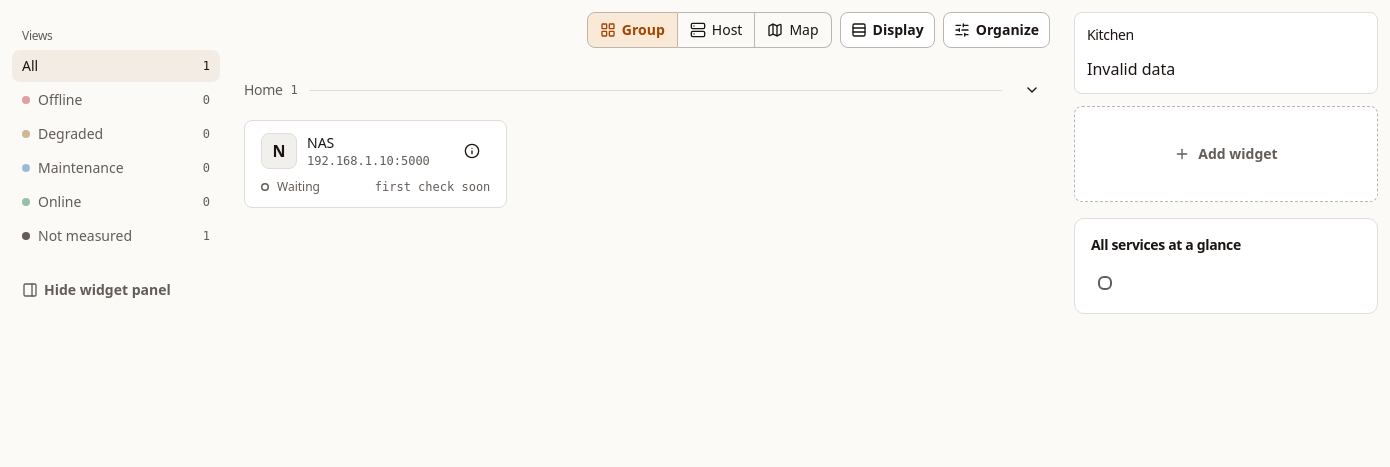
Test case: puts the widgets in the column and gives their place to a chosen service, with a way back
The image size is (1390, 467).
Click the button named "NAS: ".
click(1105, 283)  # box x1=1091 y1=269 x2=1119 y2=297
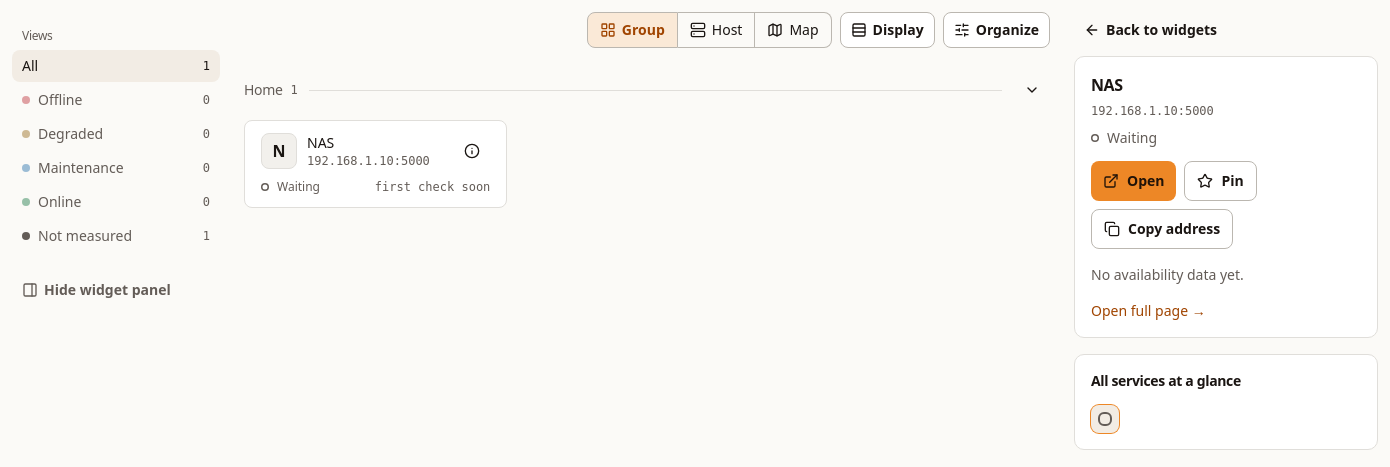
Result: the element named "Selected service" shows "NAS" at x1=1091 y1=74 x2=1123 y2=96
Result: the heading "Kitchen" is gone
Click the button "Back to widgets".
click(1151, 30)  # box x1=1074 y1=12 x2=1227 y2=48
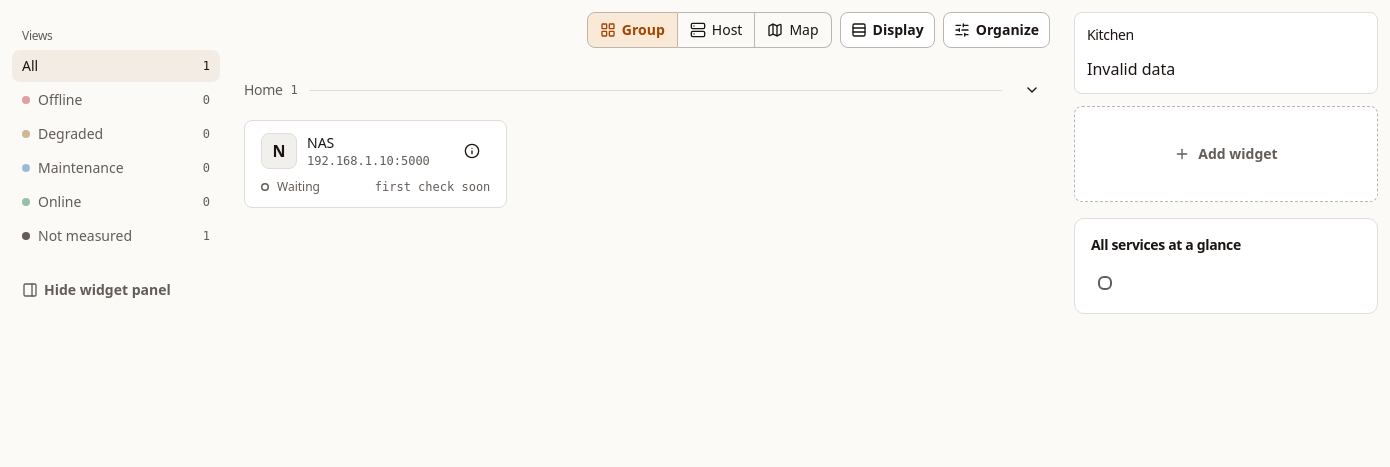
Result: the heading "Kitchen" is shown at x1=1087 y1=25 x2=1134 y2=44
